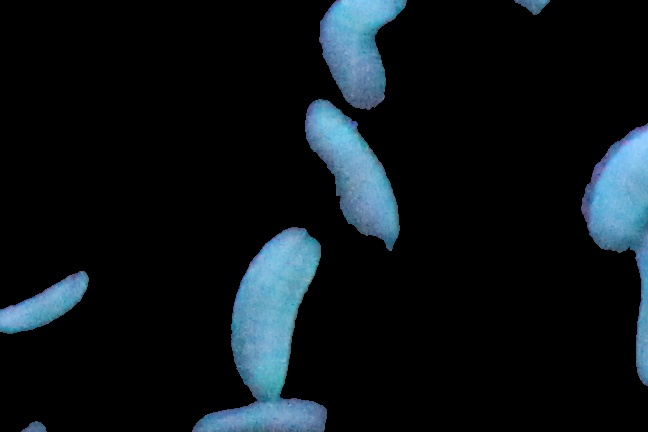larvae: (227, 235, 320, 401), (304, 103, 402, 253), (316, 1, 408, 118), (575, 120, 648, 259), (172, 389, 331, 432), (1, 268, 95, 339)
